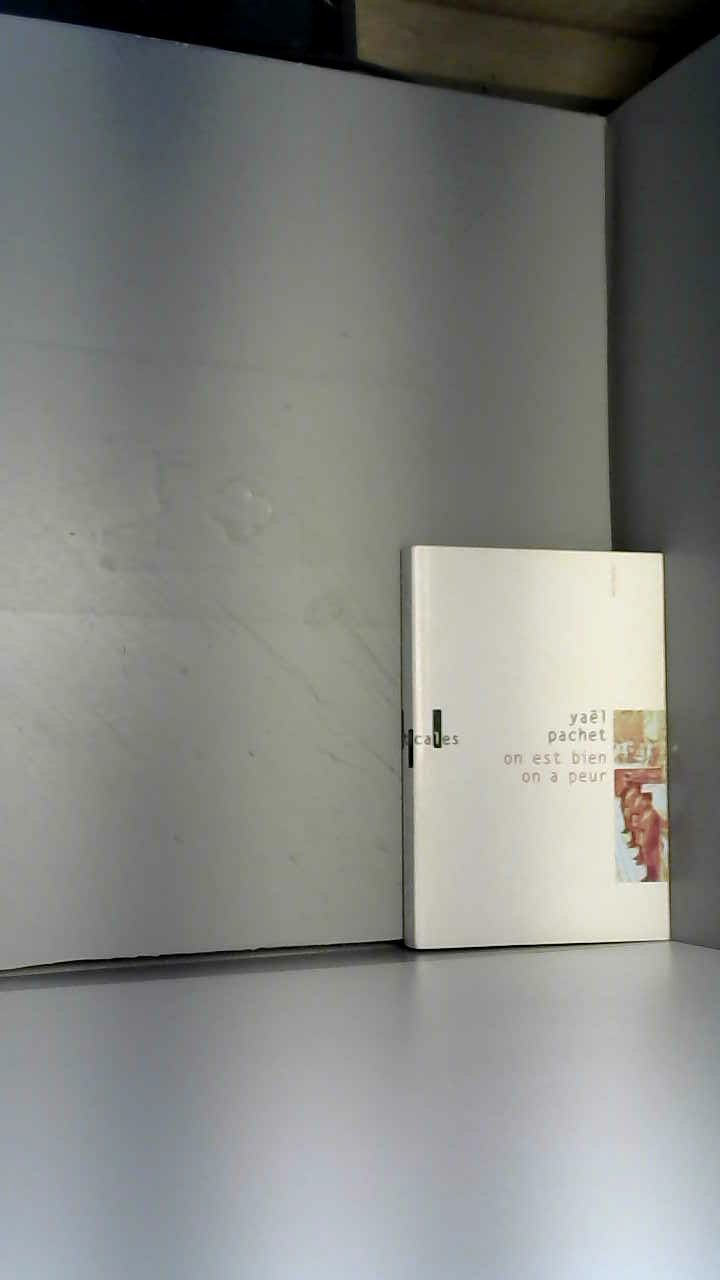book: (355, 498, 715, 985)
